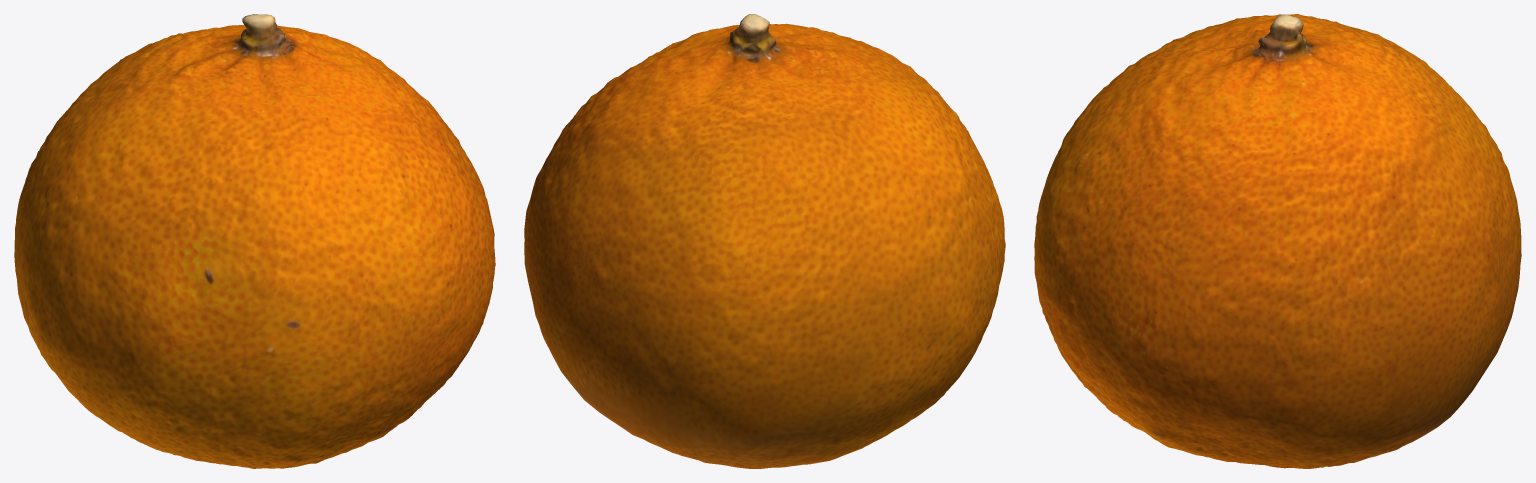
3 views of the same model, side by side, from view 1: azimuth 30°, elevation 25°; view 2: azimuth 150°, elevation 25°; view 3: azimuth 270°, elevation 25° (orthographic). The views are drawn at different scales.
Parts seen in each view (by area): view 1: ObjectCapture_5; view 2: ObjectCapture_5; view 3: ObjectCapture_5.
Boxes of the visible parts, x1=… form: ObjectCapture_5: x1=14, y1=14, x2=495, y2=468; ObjectCapture_5: x1=524, y1=14, x2=1005, y2=468; ObjectCapture_5: x1=1034, y1=14, x2=1521, y2=468.
Size of the model in its own units: 1.58 by 1.47 by 1.56.
Materials: 1 (1 with a texture image).
